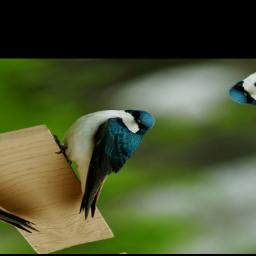Swallow: (18, 99, 208, 222)
